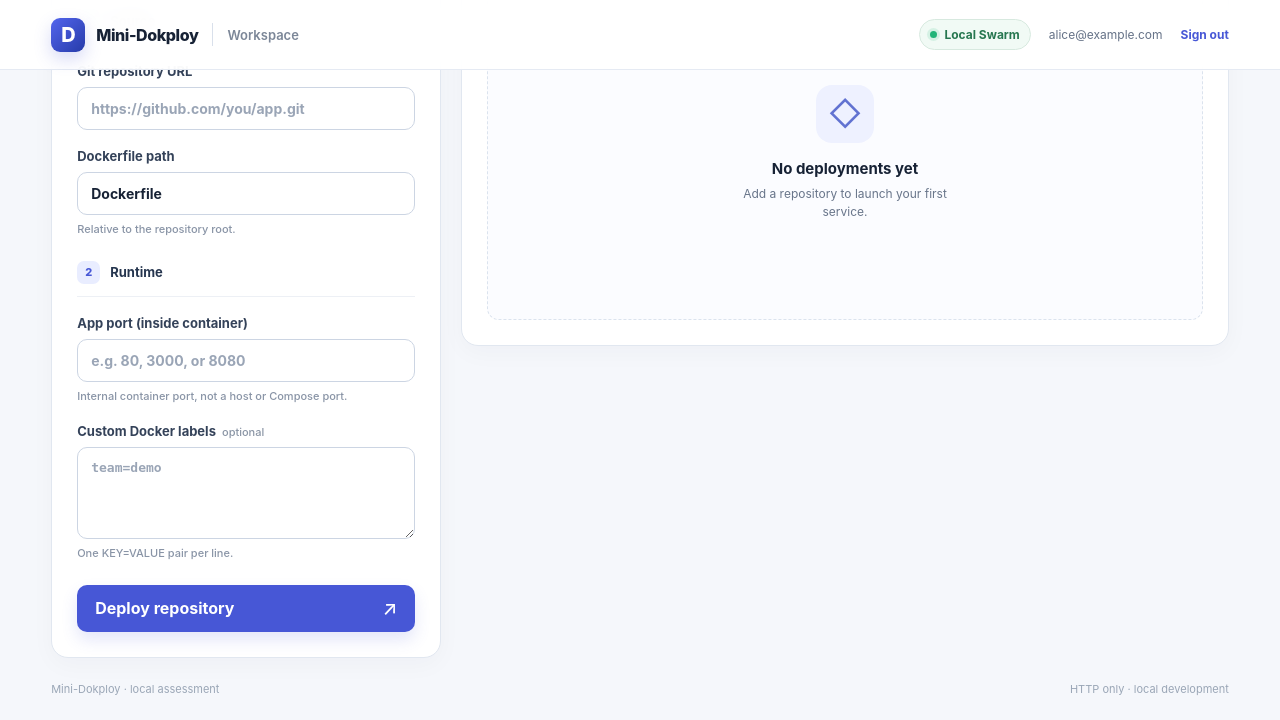
it: Mini-Dokploy page › shows an invalid-port warning on blur and clears it after correction
(page scrolled)
Type "65536" into the field labelled "App port (inside container)" at (246, 360), box [77, 339, 415, 382]
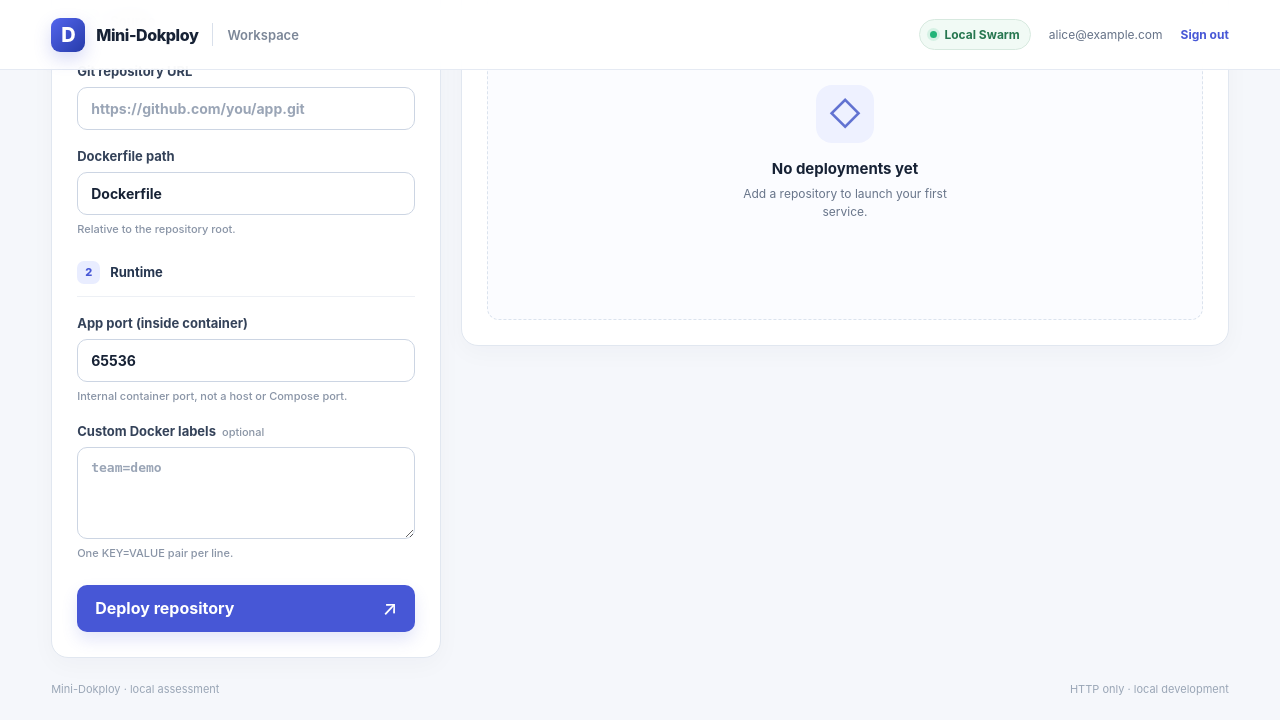
Leave the field labelled "App port (inside container)", box [77, 339, 415, 382]
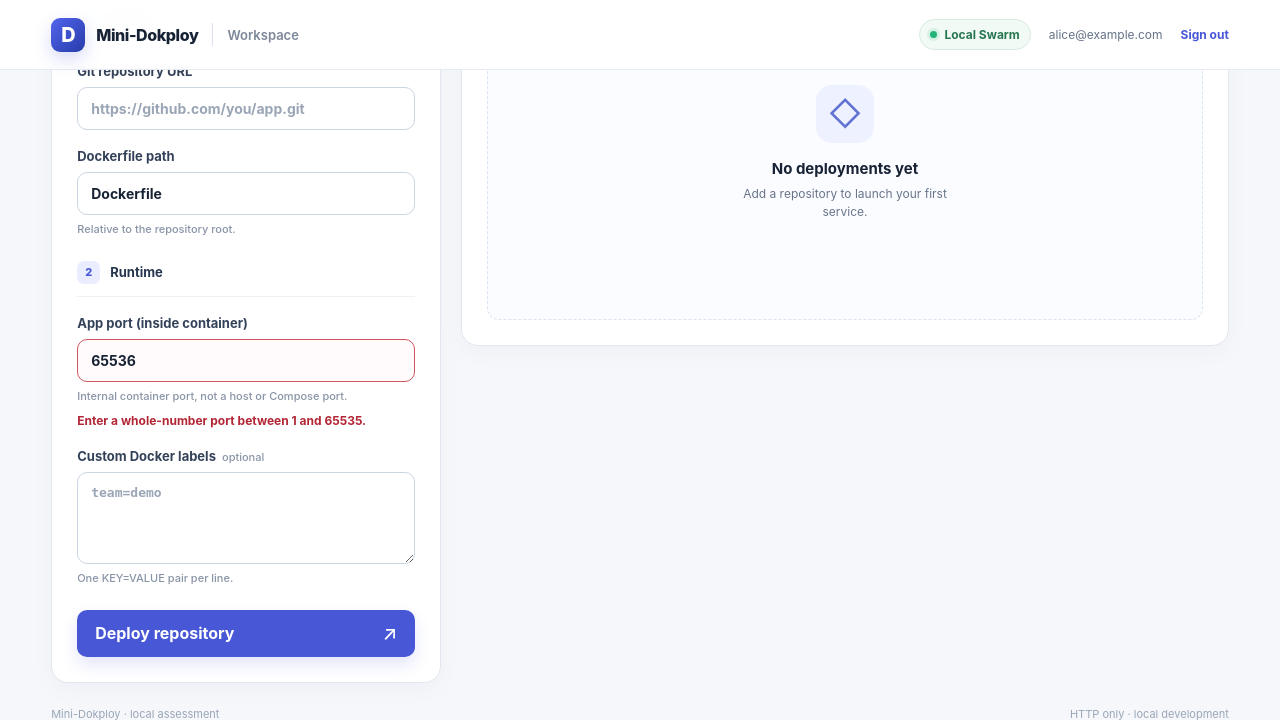
Now the text "Enter a whole-number port between 1 and 65535." is shown, box [77, 413, 415, 430]
Replace the text in the field labelled "App port (inside container)" with "80" at (246, 360), box [77, 339, 415, 382]
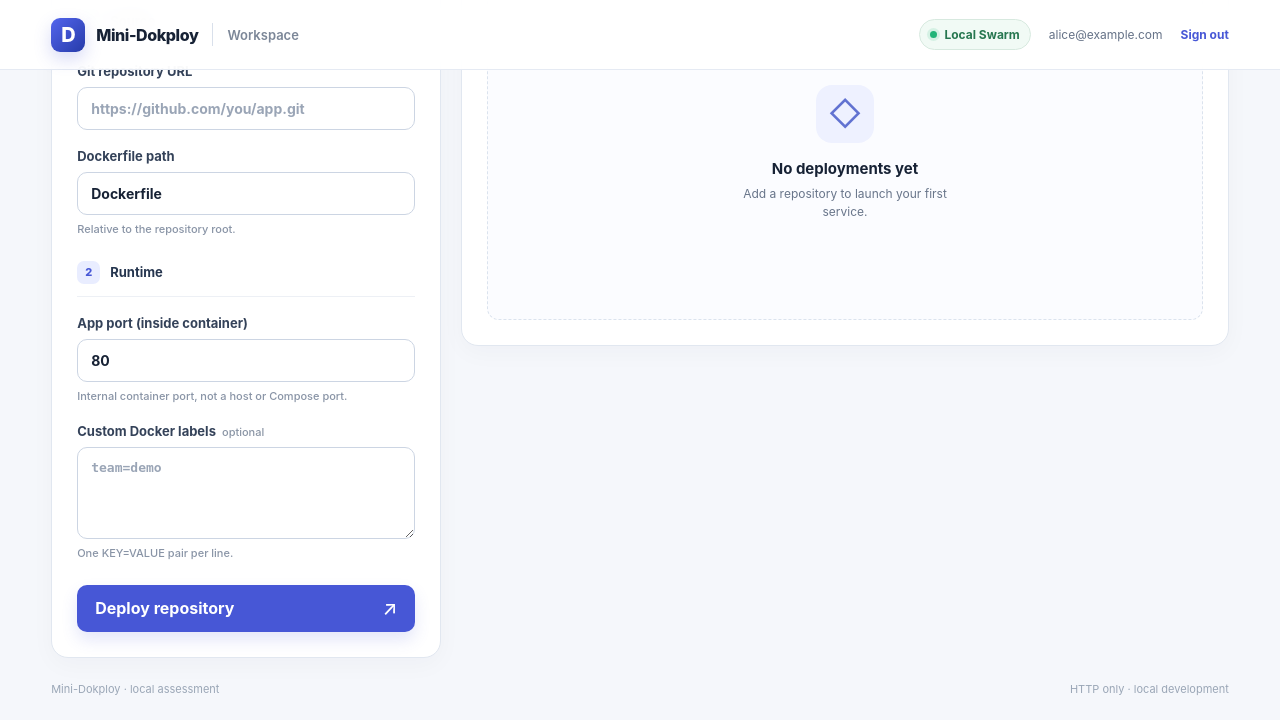
Now the text "Enter a whole-number port between 1 and 65535." is gone
